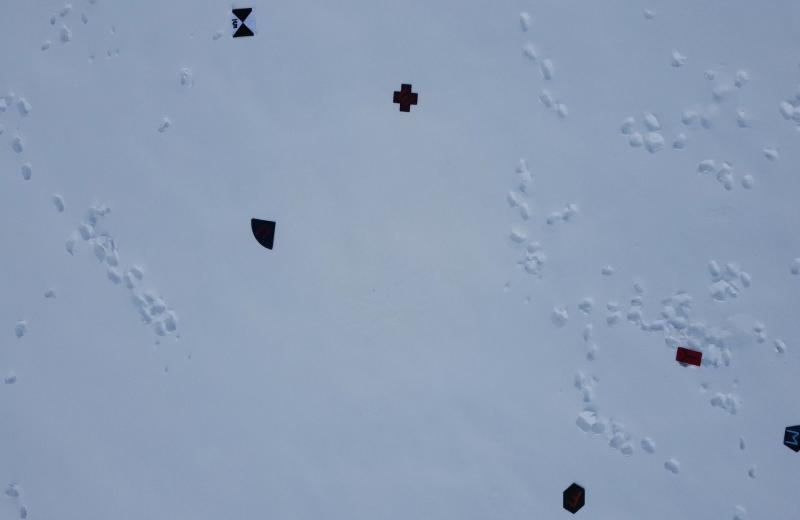Cross: (392, 80, 420, 116)
Hexagon: (558, 480, 586, 514)
Pentagon: (773, 418, 800, 461)
Quarter Circle: (247, 207, 280, 255)
Rectangle: (1, 1, 800, 520), (674, 340, 704, 374)
